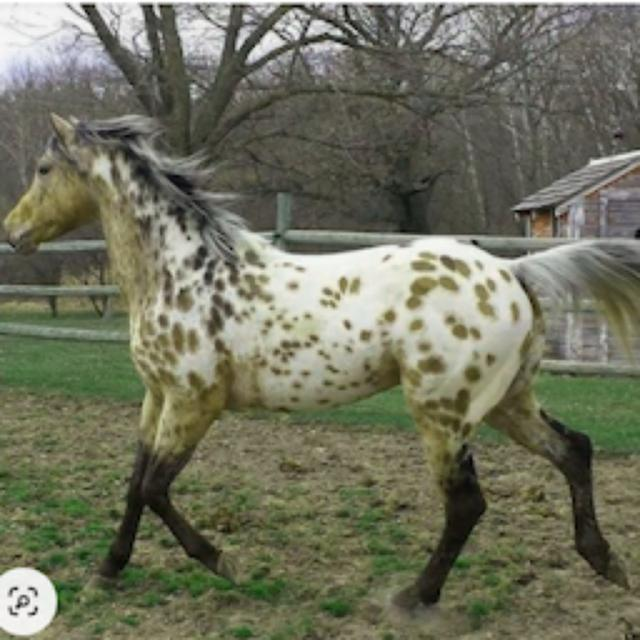Horse: (2, 102, 640, 616)
